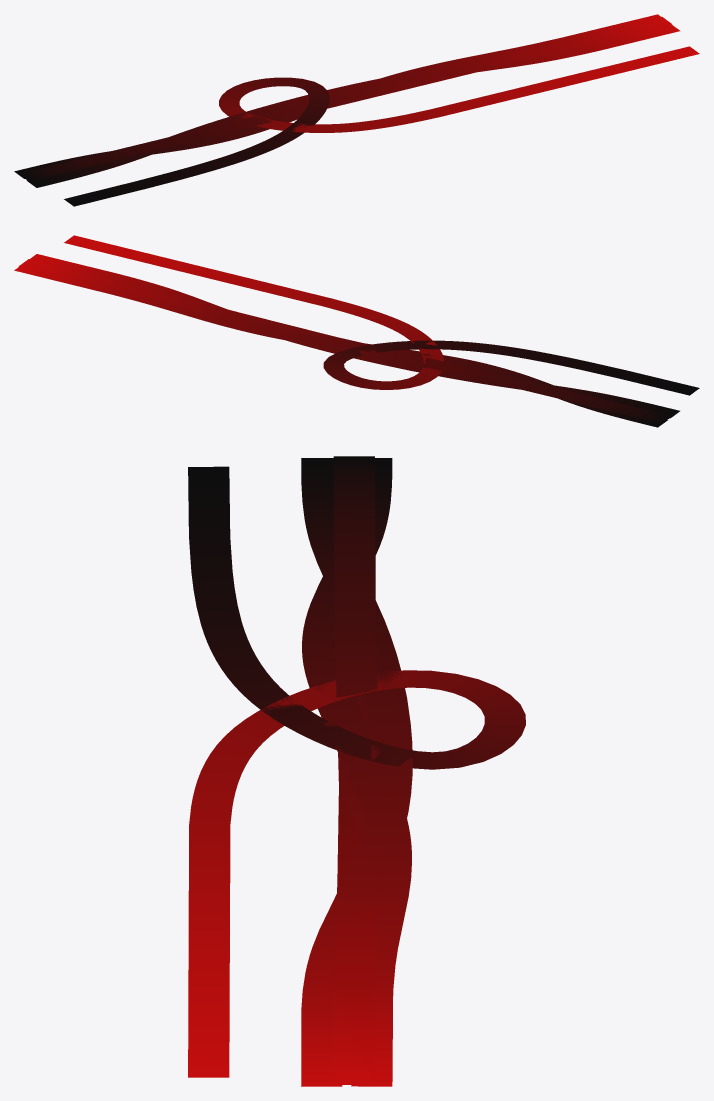
The model's file is SM_EnvironmentWind.fbx.
3 renders of one model, top to bottom at view 1: azimuth 30°, elevation 25°; view 2: azimuth 150°, elevation 25°; view 3: azimuth 270°, elevation 25°, orthographic. The views are drawn at different scales.
Visible parts, largest first — view 1: SM_EnvironmentWind_1, SM_EnvironmentWind_2, SM_EnvironmentWind_3, SM_EnvironmentWind_4; view 2: SM_EnvironmentWind_1, SM_EnvironmentWind_2, SM_EnvironmentWind_3, SM_EnvironmentWind_4; view 3: SM_EnvironmentWind_1, SM_EnvironmentWind_2, SM_EnvironmentWind_3, SM_EnvironmentWind_4.
Boxes of the visible parts, x1,y1,x2,y2 form: SM_EnvironmentWind_1: (64,46,699,206); SM_EnvironmentWind_2: (18,17,671,181); SM_EnvironmentWind_3: (27,24,679,187); SM_EnvironmentWind_4: (14,14,660,178); SM_EnvironmentWind_1: (64,235,699,395); SM_EnvironmentWind_2: (18,259,671,423); SM_EnvironmentWind_3: (30,254,679,418); SM_EnvironmentWind_4: (14,266,667,427); SM_EnvironmentWind_1: (188,466,525,1077); SM_EnvironmentWind_2: (333,456,377,1084); SM_EnvironmentWind_3: (301,458,412,1086); SM_EnvironmentWind_4: (302,458,411,1086).
Size of the model in its own units: 3600 by 8.94 by 818.
